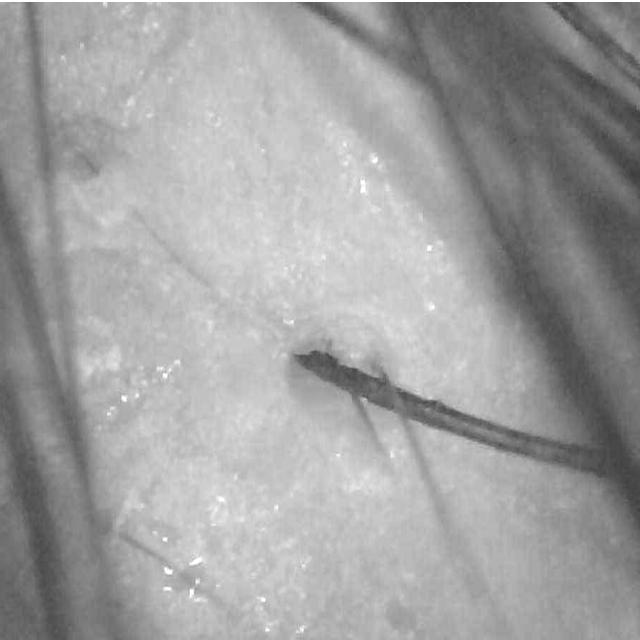o: (105, 356, 181, 424), (161, 562, 208, 604)
